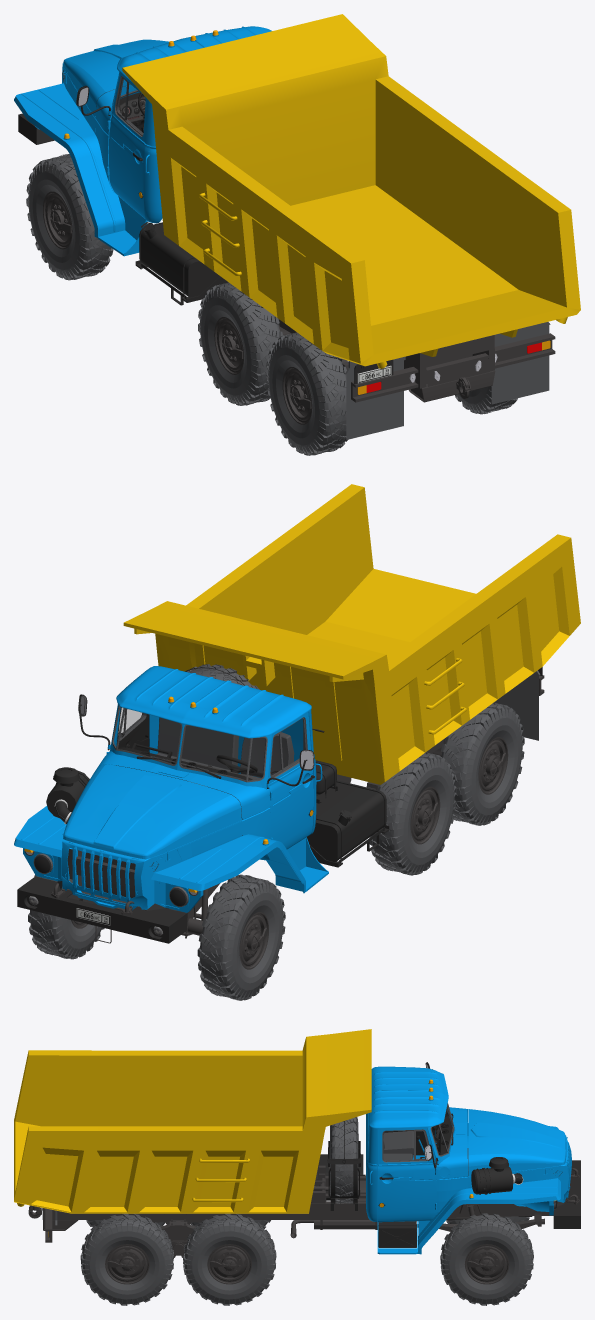
Rendered from camion_benne_6x6.glb.
3 views of the same model, one above another, from view 1: azimuth 30°, elevation 25°; view 2: azimuth 150°, elevation 25°; view 3: azimuth 270°, elevation 25° (orthographic). The views are drawn at different scales.
Visible parts, largest first — view 1: polySurface52679, polySurface5342 (×2), polySurface5326, polySurface5341, polySurface5186, polySurface5222, pPlane1, pPlane13, polySurface52687, polySurface52686, pPlane62, polySurface52674 (+12 smaller); view 2: polySurface52679, pPlane13, polySurface5186 (×2), pPlane2, polySurface5330, polySurface5326, polySurface5341, polySurface5342, pPlane50, pPlane1, polySurface5319, polySurface5222 (+18 smaller); view 3: polySurface52679, polySurface5342, polySurface5341, polySurface5186, pPlane13, pPlane2, polySurface5326, polySurface5226, polySurface5314, polySurface5315, pPlane14, polySurface5343 (+14 smaller).
Part boxes in pixels (x1,y1,x2,y2): polySurface52679: [122, 14, 580, 366]; polySurface5342 (×2): [266, 332, 517, 455]; polySurface5326: [14, 83, 147, 256]; polySurface5341: [198, 282, 282, 405]; polySurface5186: [26, 154, 113, 280]; polySurface5222: [107, 73, 148, 218]; pPlane1: [139, 222, 219, 297]; pPlane13: [63, 39, 168, 117]; polySurface52687: [491, 322, 550, 404]; polySurface52686: [345, 356, 405, 439]; pPlane62: [351, 333, 555, 402]; polySurface52674: [409, 353, 495, 402]; polySurface52679: [123, 484, 580, 784]; pPlane13: [63, 764, 241, 859]; polySurface5186 (×2): [28, 874, 285, 1000]; pPlane2: [116, 666, 311, 738]; polySurface5330: [110, 704, 272, 789]; polySurface5326: [14, 806, 328, 893]; polySurface5341: [369, 752, 456, 875]; polySurface5342: [441, 702, 524, 825]; pPlane50: [17, 876, 186, 943]; pPlane1: [307, 780, 386, 862]; polySurface5319: [156, 717, 294, 779]; polySurface5222: [268, 712, 313, 849]; polySurface52679: [14, 1029, 371, 1213]; polySurface5342: [80, 1213, 174, 1305]; polySurface5341: [182, 1213, 276, 1305]; polySurface5186: [440, 1213, 533, 1305]; pPlane13: [468, 1109, 566, 1176]; pPlane2: [369, 1066, 448, 1128]; polySurface5326: [377, 1126, 560, 1254]; polySurface5226: [378, 1127, 436, 1222]; polySurface5314: [42, 1167, 573, 1219]; polySurface5315: [128, 1173, 544, 1257]; pPlane14: [431, 1107, 467, 1220]; polySurface5343: [330, 1117, 358, 1203].
Size of the model in its own units: 3.03 by 3.28 by 8.36.
Materials: 12 (1 with a texture image).
